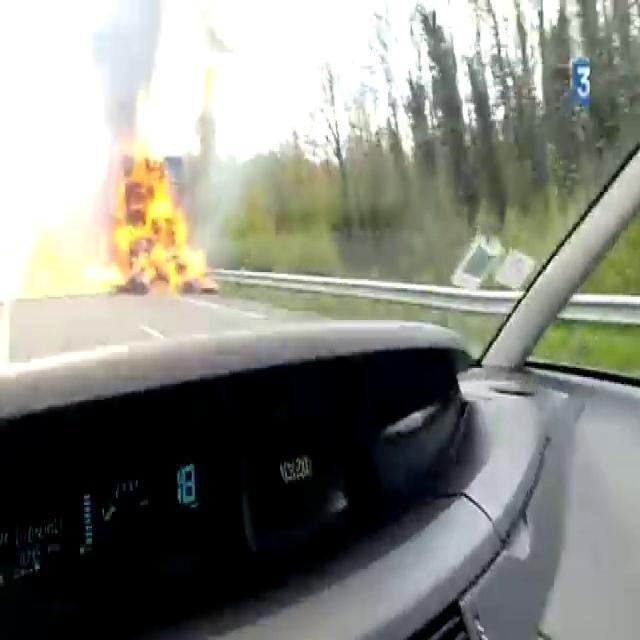Fire: (82, 120, 210, 296)
